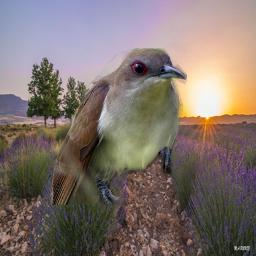Cuckoo: (51, 48, 187, 205)
